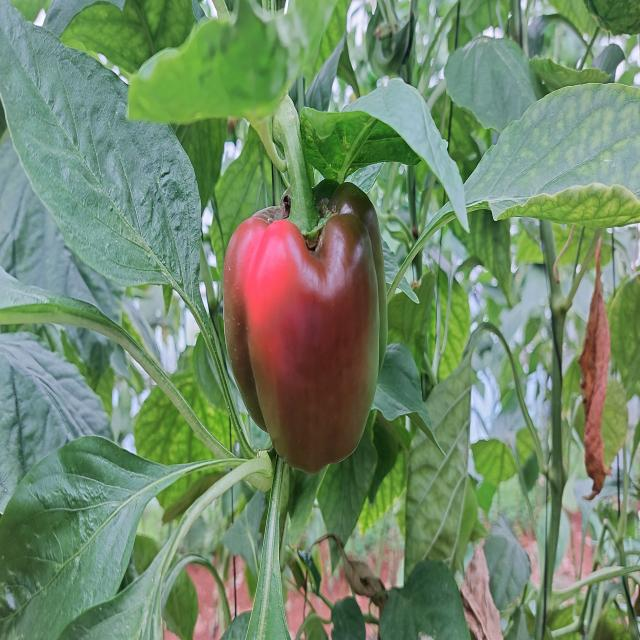BrownishRed--Can-be-Harvested: (213, 206, 400, 484)
